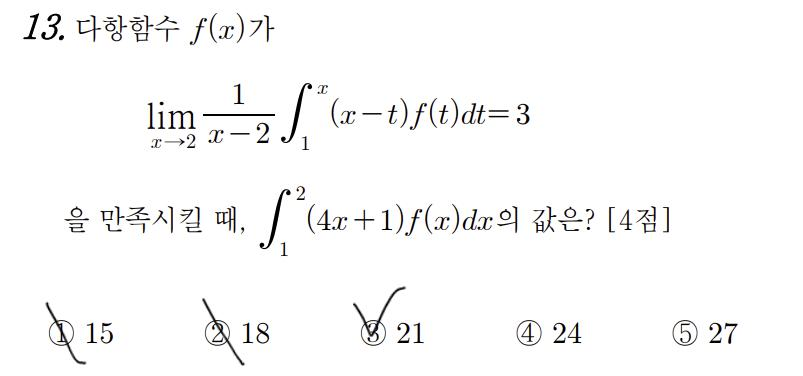1: (352, 286, 396, 349)
paper: (46, 318, 80, 348), (202, 318, 236, 348), (357, 318, 391, 348), (512, 317, 546, 347), (668, 318, 702, 348)
